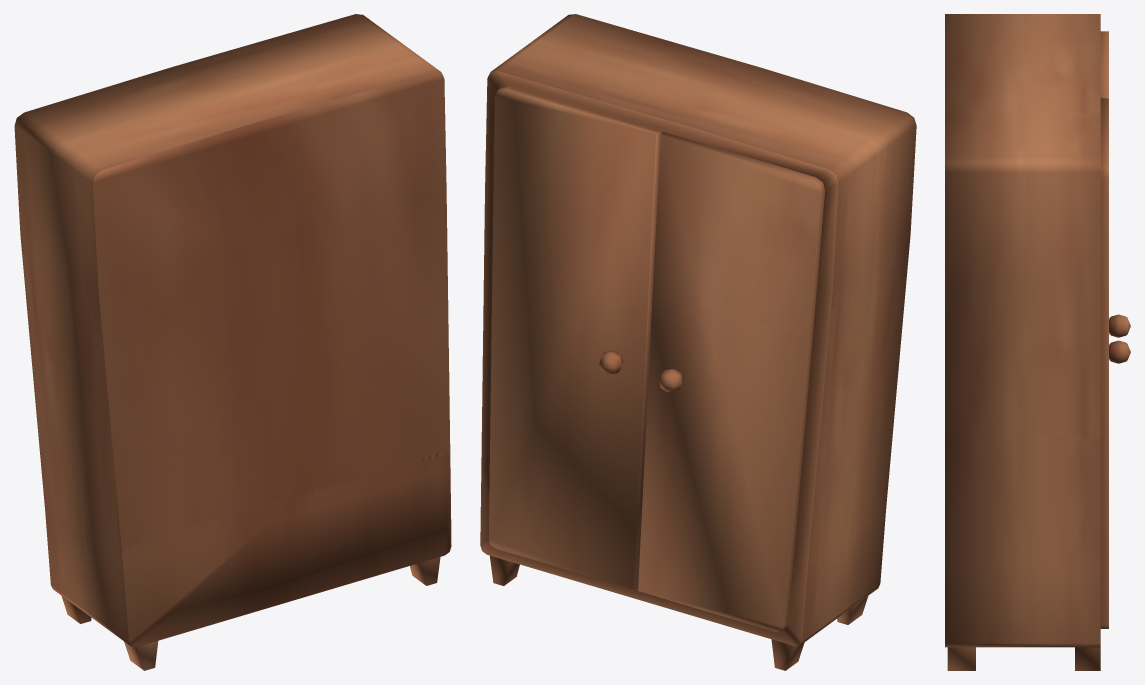
The model's file is CupboardWithArmature.fbx.
3 renders of one model, left to right at view 1: azimuth 30°, elevation 25°; view 2: azimuth 150°, elevation 25°; view 3: azimuth 270°, elevation 25°, orthographic.
Parts seen in each view (by area): view 1: Bone; view 2: Bone; view 3: Bone.
Part boxes in pixels (x1,y1,x2,y2): Bone: [14, 14, 451, 670]; Bone: [480, 14, 916, 670]; Bone: [945, 14, 1130, 670].
Size of the model in its own units: 114 by 161 by 51.47.
